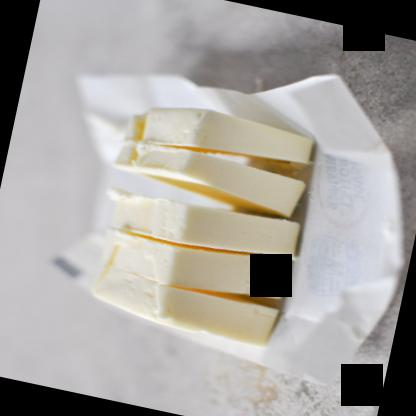butter: (90, 219, 293, 349), (106, 130, 310, 220), (96, 186, 304, 266), (121, 94, 316, 178)
